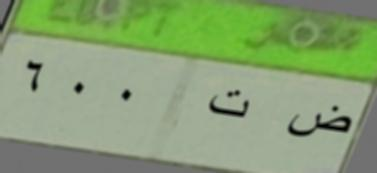0: (66, 73, 95, 106), (114, 80, 137, 110)
6: (16, 52, 49, 102)
daad: (282, 93, 354, 145)
taa: (202, 82, 251, 126)
